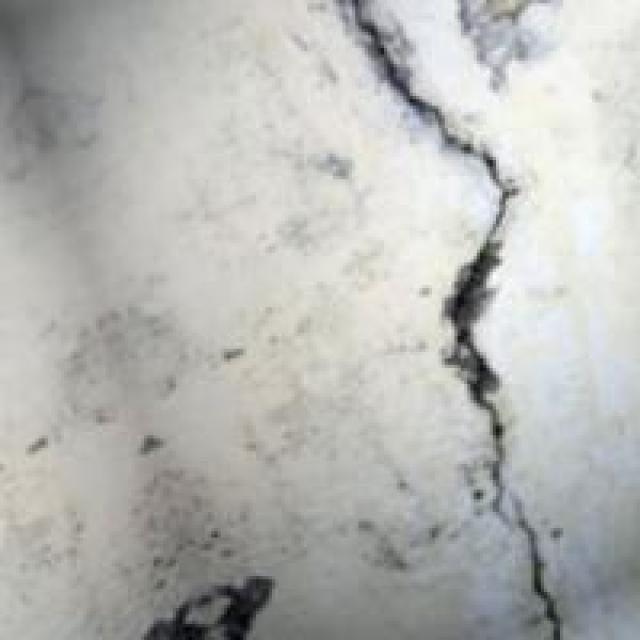crack: (326, 0, 573, 637)
